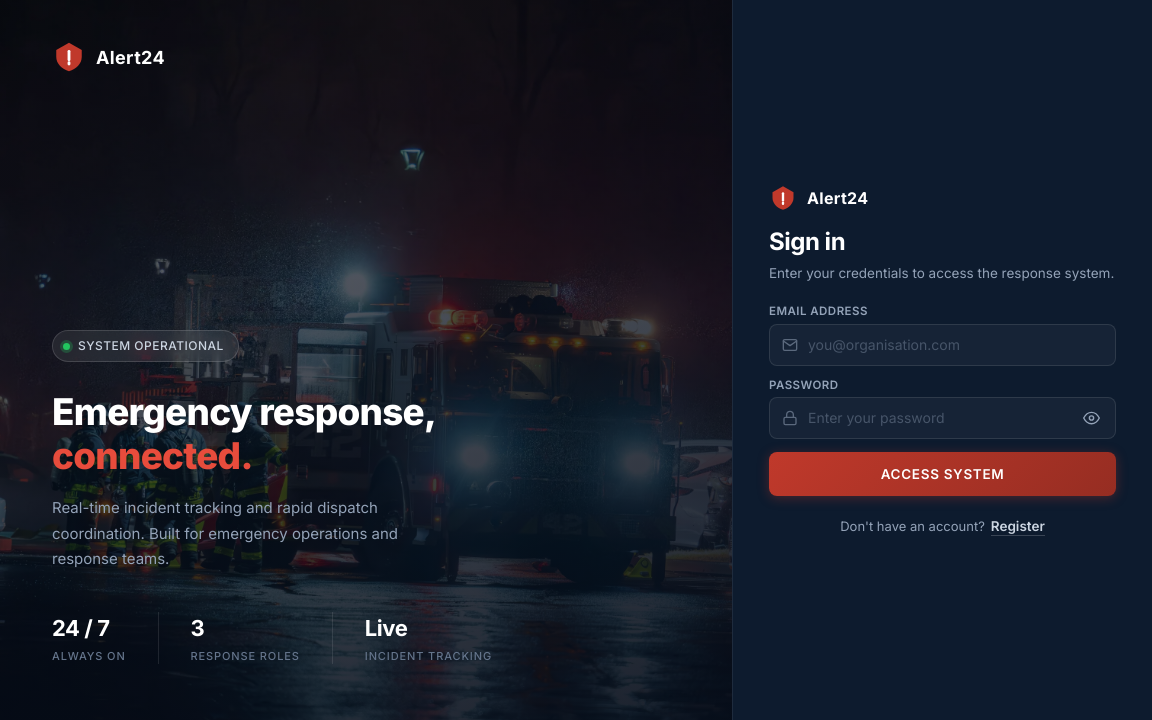
it: Alert24 Login and Signup Validation and UI Refinements › login: validates invalid email format
Type "not-an-email" into the field labelled "Email address" at (942, 344), box [769,324,1116,366]
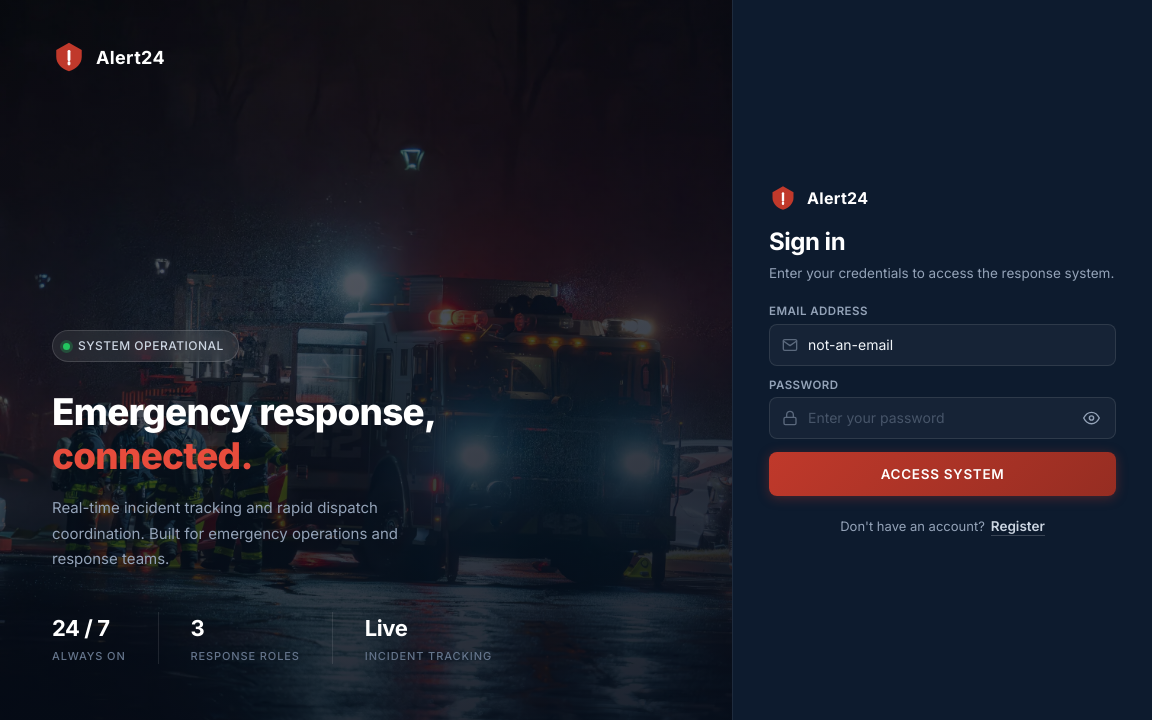
Type "validpass123" into the password field labelled "Password" at (942, 418), box [769,397,1116,439]
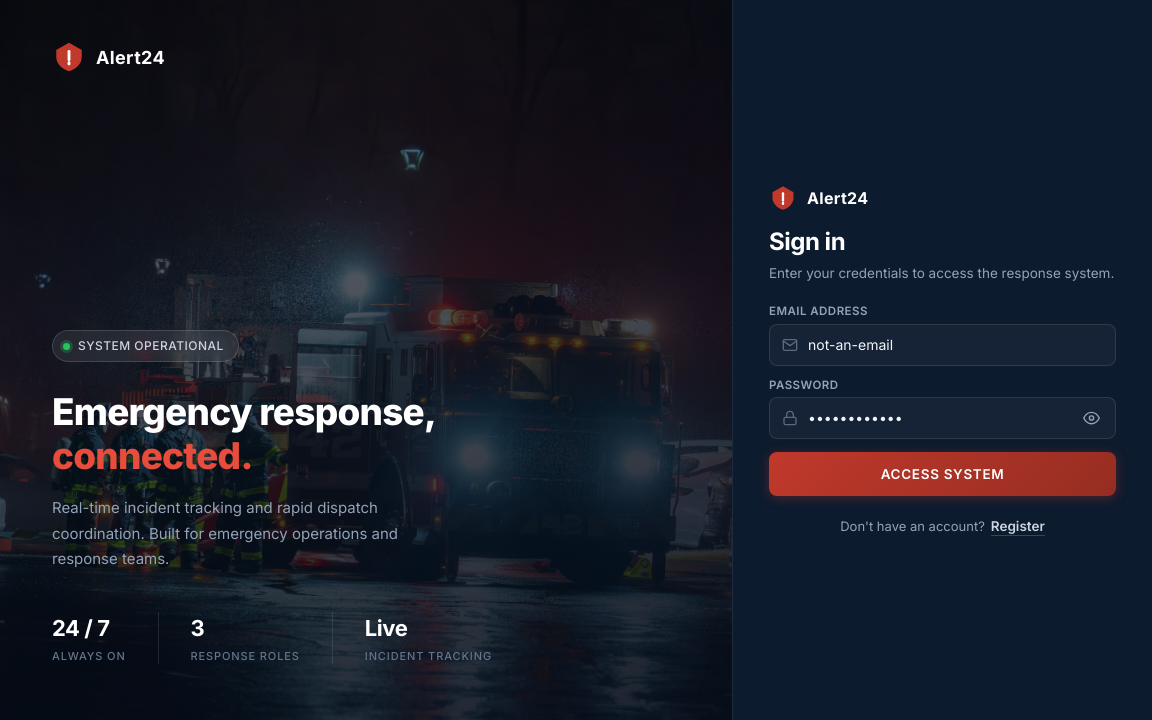
Click the button "Access System" at (942, 474), box [769,452,1116,496]
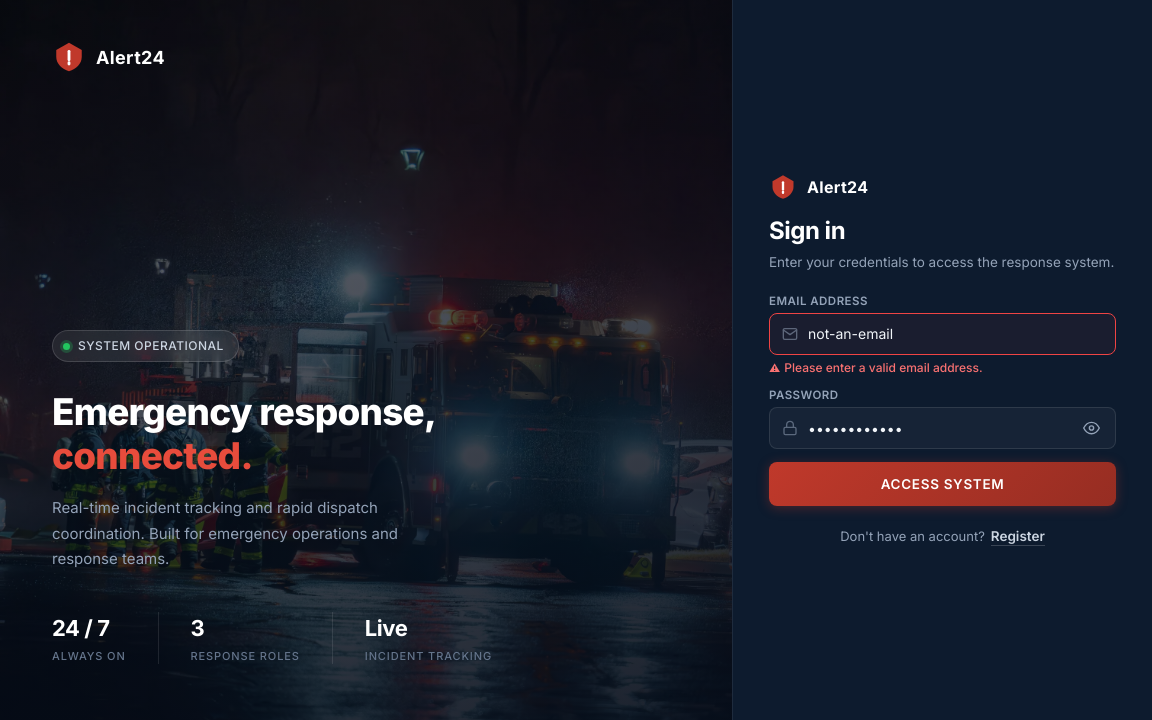
expect the text "Please enter a valid email address." is shown: met, box [784,360,983,375]
